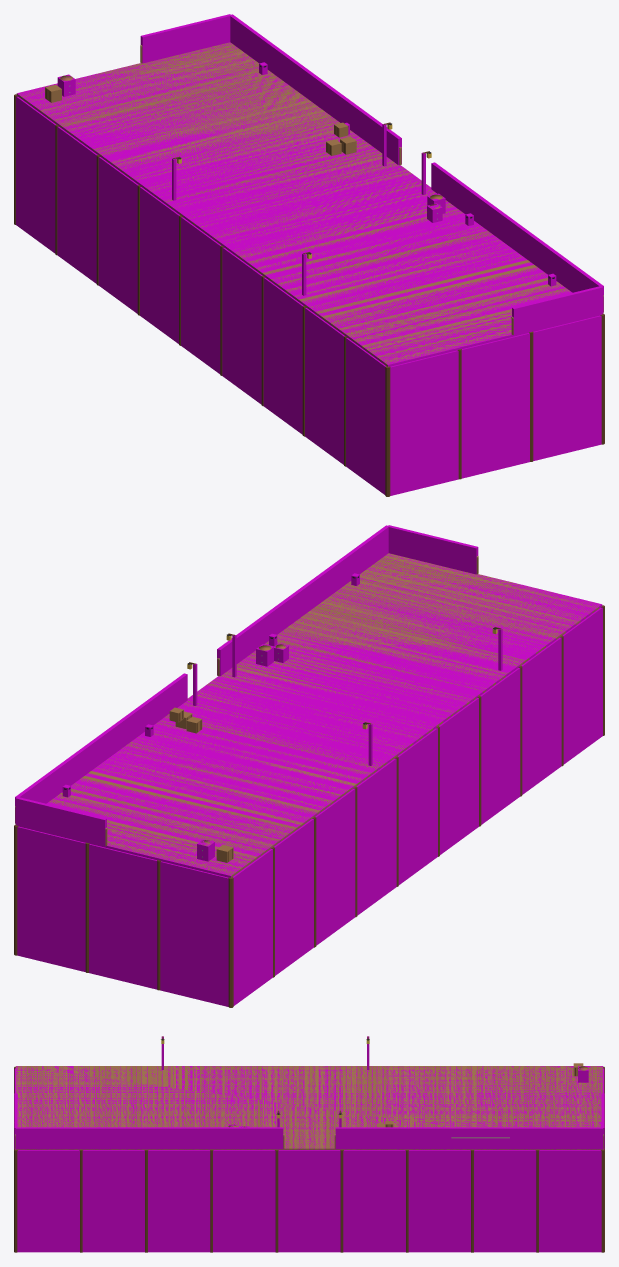
The model's file is dock.glb.
The picture shows the model from 3 angles, top to bottom: view 1: azimuth 30°, elevation 25°; view 2: azimuth 150°, elevation 25°; view 3: azimuth 270°, elevation 25°; orthographic projection. The views are drawn at different scales.
Parts seen in each view (by area): view 1: COLP_dock, COL_dock, dock; view 2: COLP_dock, COL_dock, dock; view 3: COLP_dock, dock, COL_dock.
Part boxes in pixels (left/top/right/bottom): COLP_dock: left=16, top=14, right=603, bottom=495; COL_dock: left=16, top=42, right=602, bottom=366; dock: left=14, top=42, right=604, bottom=496; COLP_dock: left=15, top=525, right=602, bottom=1006; COL_dock: left=16, top=553, right=602, bottom=877; dock: left=14, top=553, right=604, bottom=1007; COLP_dock: left=14, top=1036, right=604, bottom=1252; dock: left=14, top=1036, right=604, bottom=1252; COL_dock: left=16, top=1066, right=602, bottom=1150.
Bounding box in the file's own units: 12.23 × 9.23 × 36.26.
